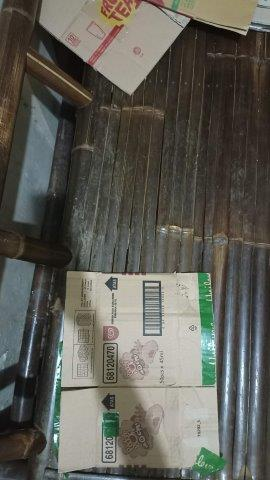kardus: (59, 270, 219, 473)
